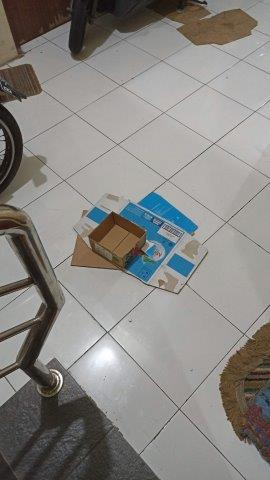kardus: (78, 194, 204, 288), (147, 1, 259, 42)
